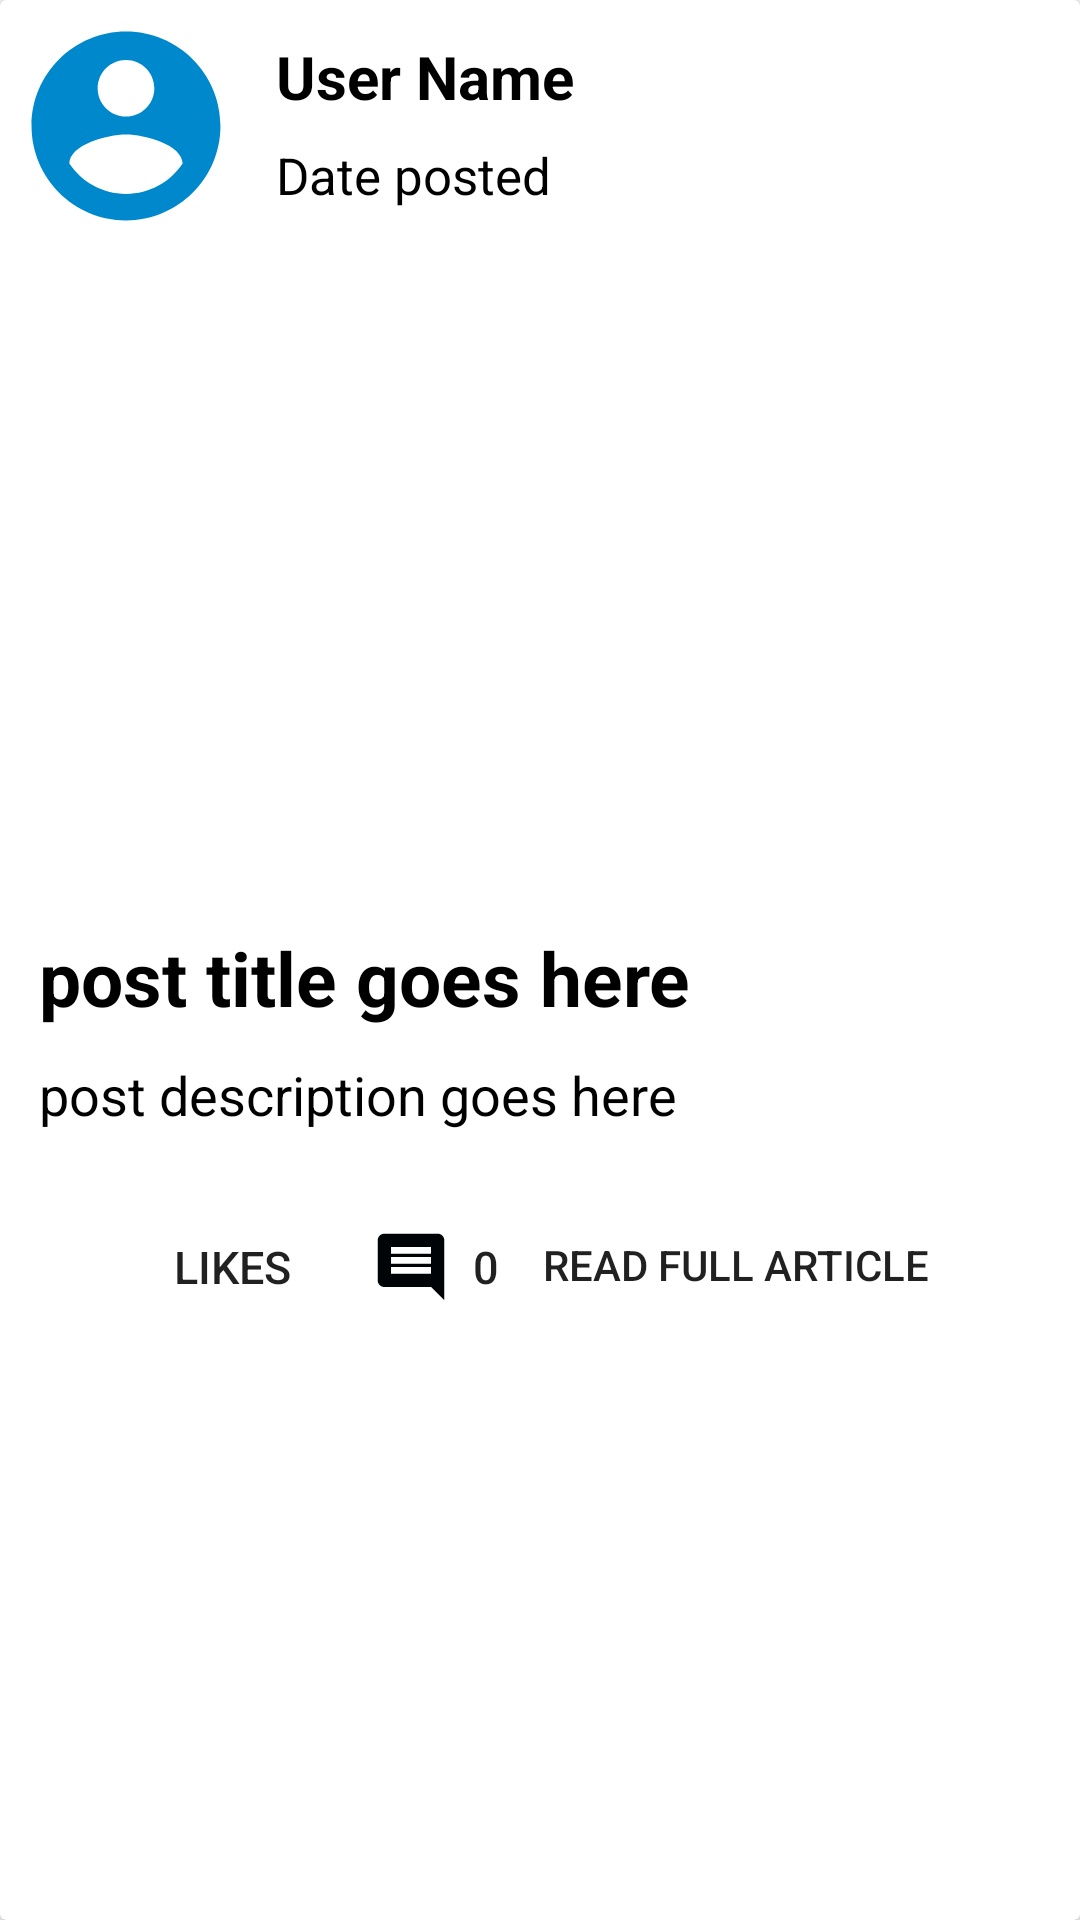

Icons on this 1080*1920 Android screen, each with the point to tap as [x,y]:
profile: [126,126]
